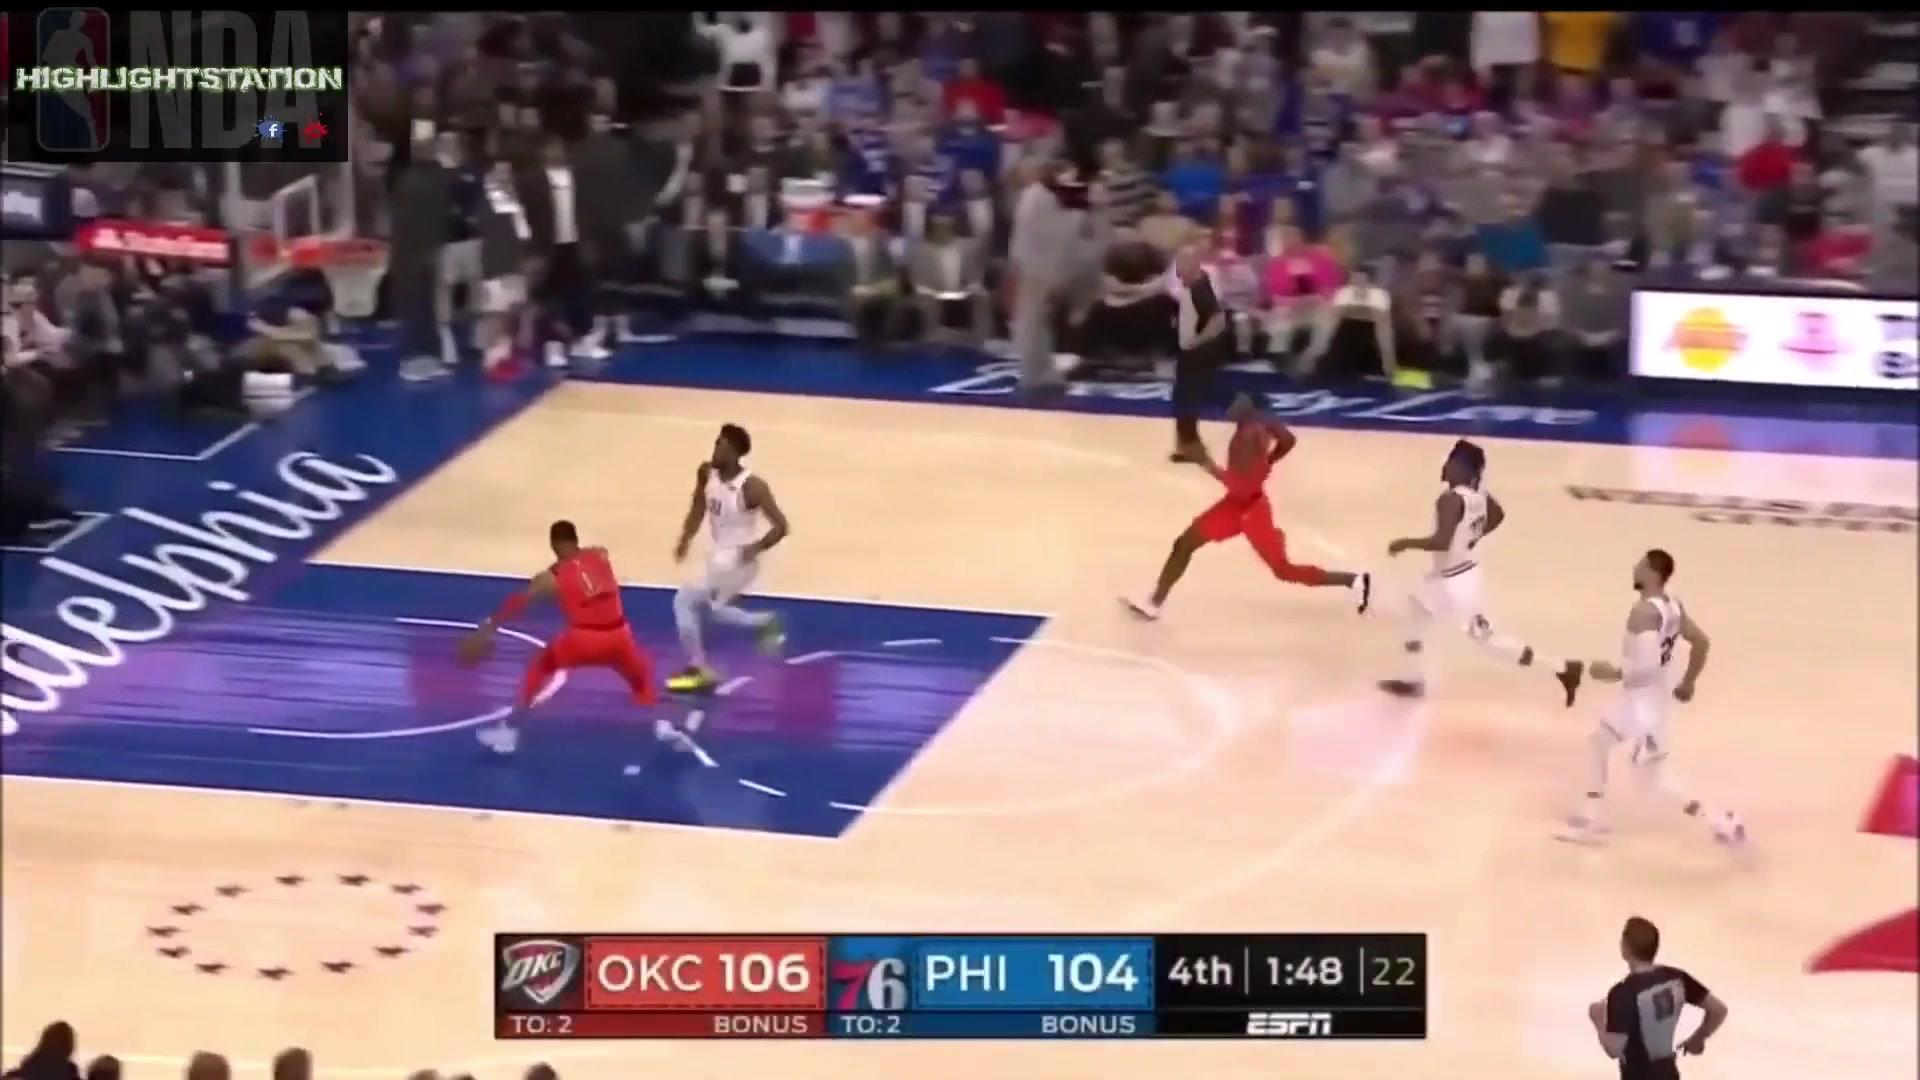no_foul: (464, 405, 817, 763)
